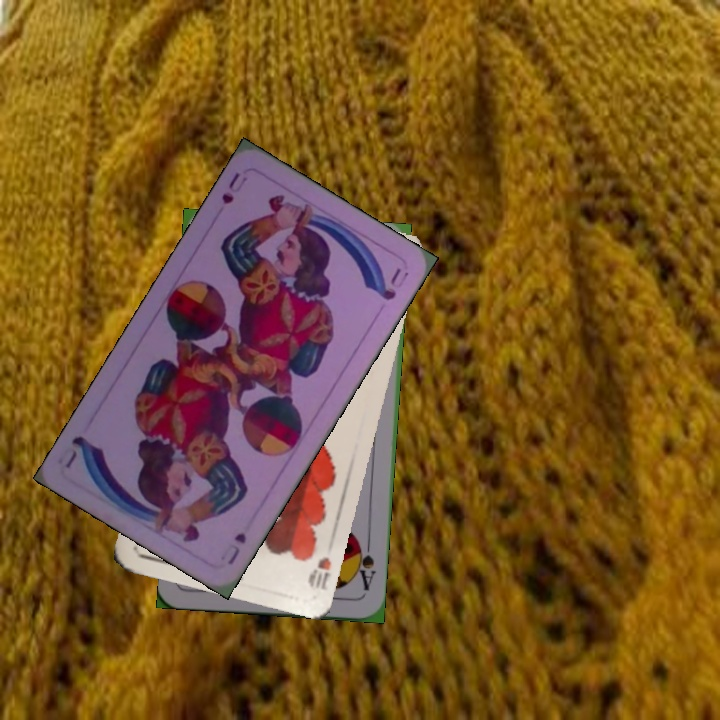H10: (303, 553, 334, 593)
SA: (352, 536, 378, 593)
SU: (217, 168, 251, 207), (221, 528, 249, 568)
